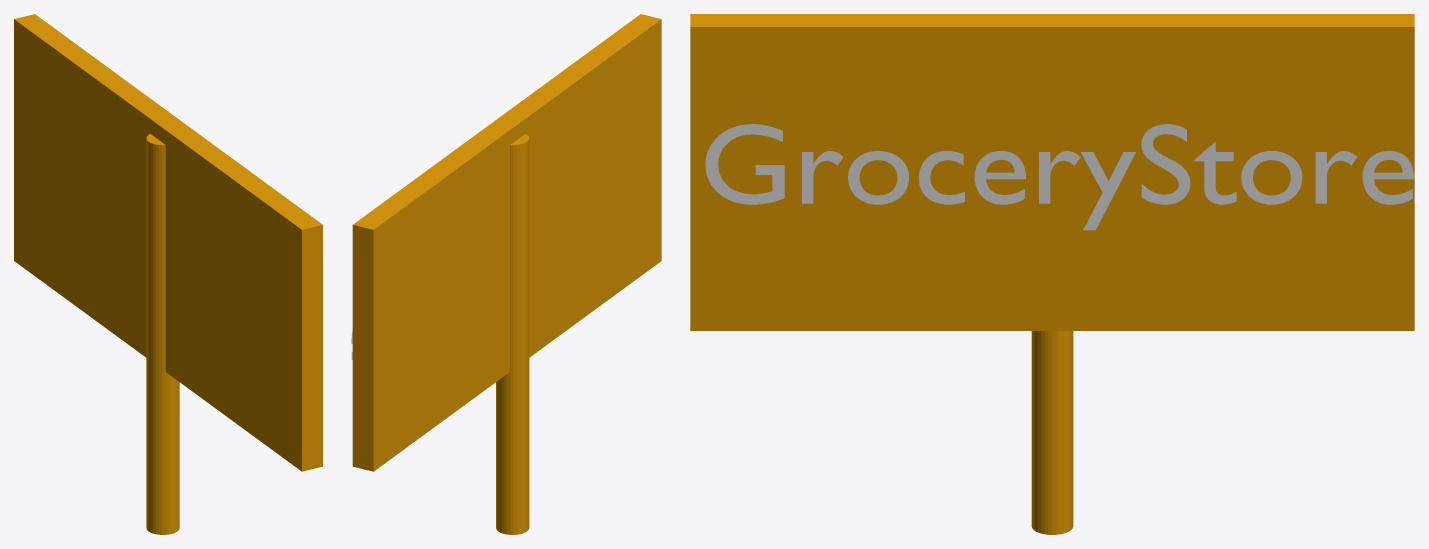
Rendered from Kyltti1.fbx.
The picture shows the model from 3 angles, left to right: view 1: azimuth 30°, elevation 25°; view 2: azimuth 150°, elevation 25°; view 3: azimuth 270°, elevation 25°; orthographic projection. The views are drawn at different scales.
Parts seen in each view (by area): view 1: Kyltti1, Cylinder; view 2: Kyltti1, Cylinder; view 3: Kyltti1, Text.002, Cylinder.
Part boxes in pixels (<box>): Kyltti1: <box>14,14,322,471</box>; Cylinder: <box>146,134,179,534</box>; Kyltti1: <box>352,14,661,471</box>; Cylinder: <box>496,134,529,534</box>; Kyltti1: <box>690,14,1414,330</box>; Text.002: <box>705,124,1413,230</box>; Cylinder: <box>1031,331,1073,534</box>.
Size of the model in its own units: 36.68 by 442 by 570.
